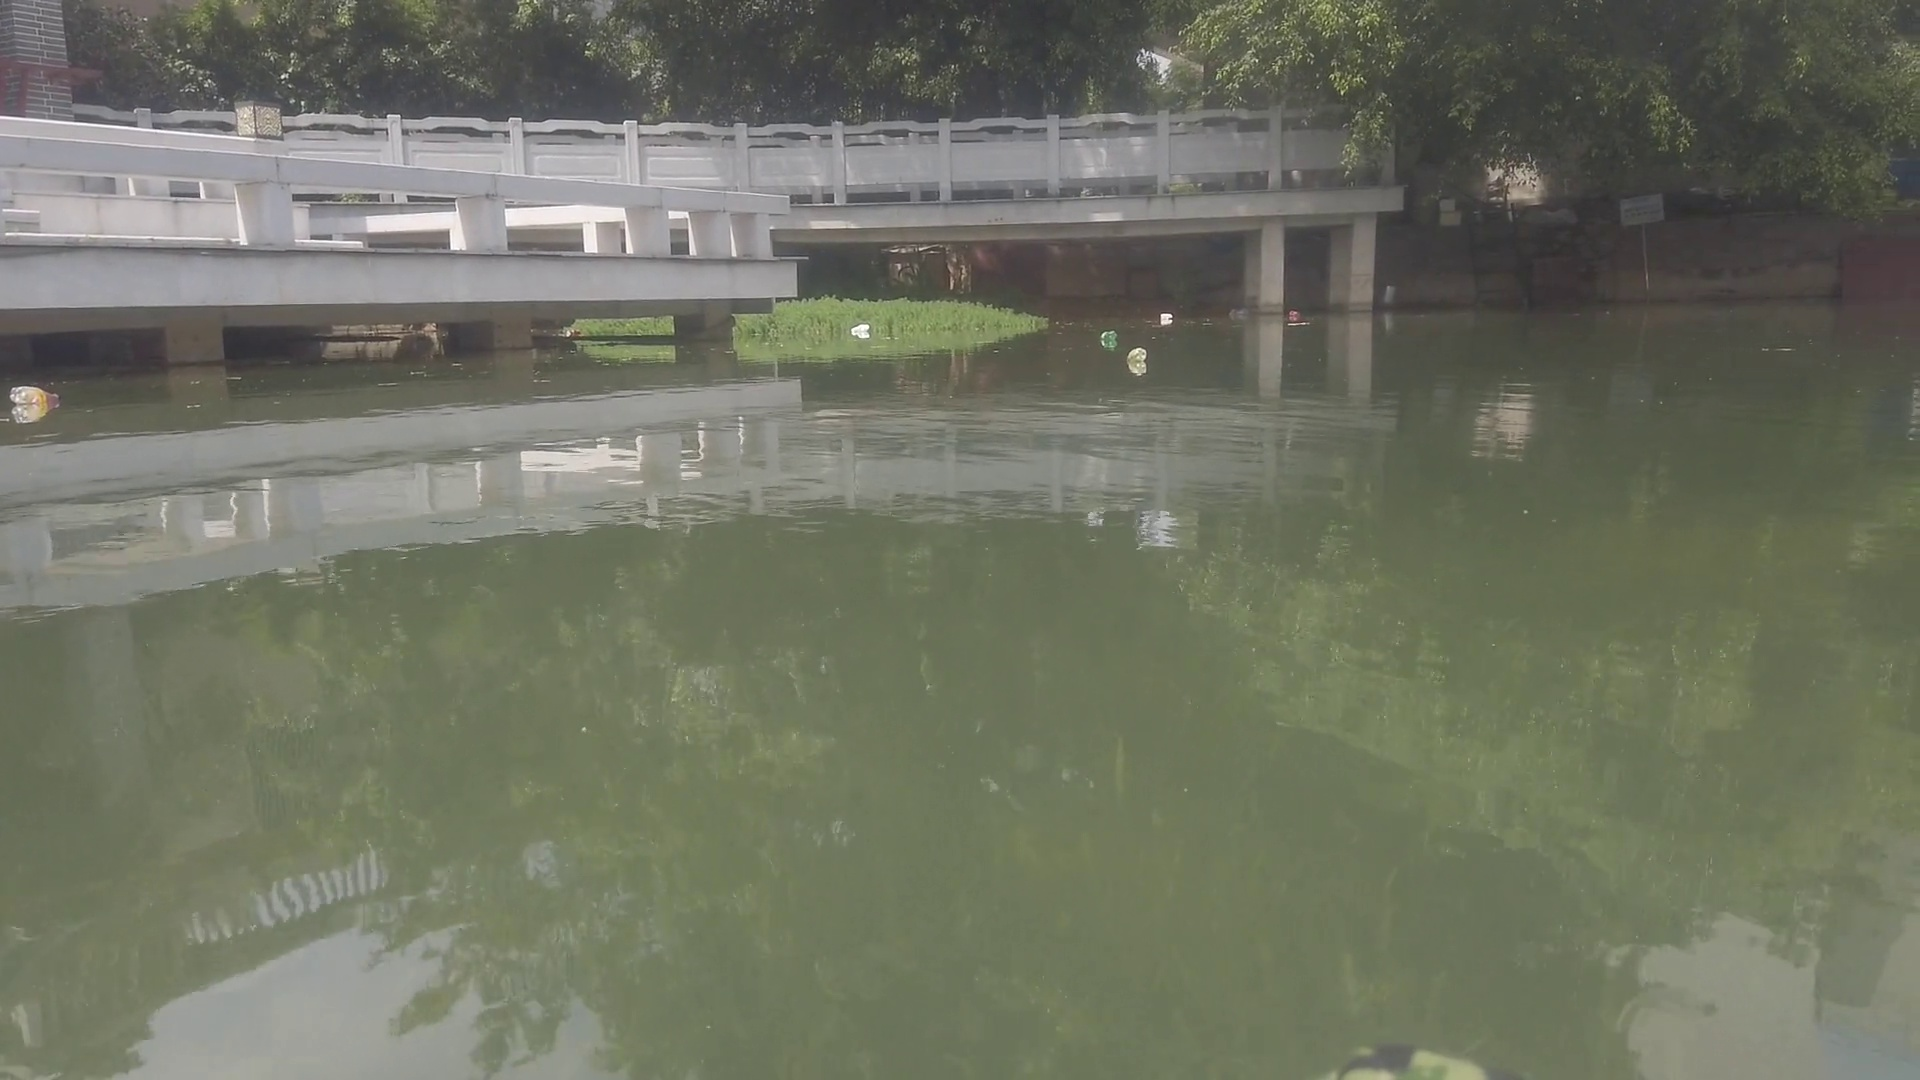bottle: (4, 382, 61, 406), (1127, 344, 1149, 364), (1097, 324, 1118, 343), (1283, 306, 1304, 319)
carton: (1155, 307, 1172, 320)
plastic: (851, 319, 869, 334)
